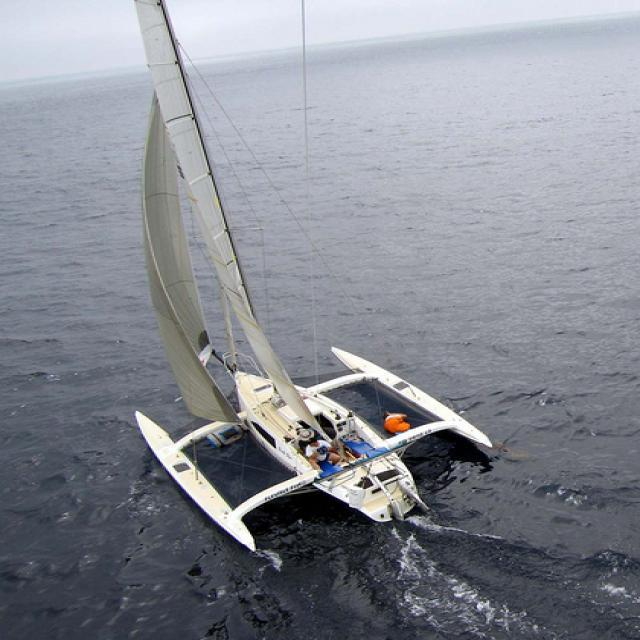Ship: (103, 10, 505, 570)
